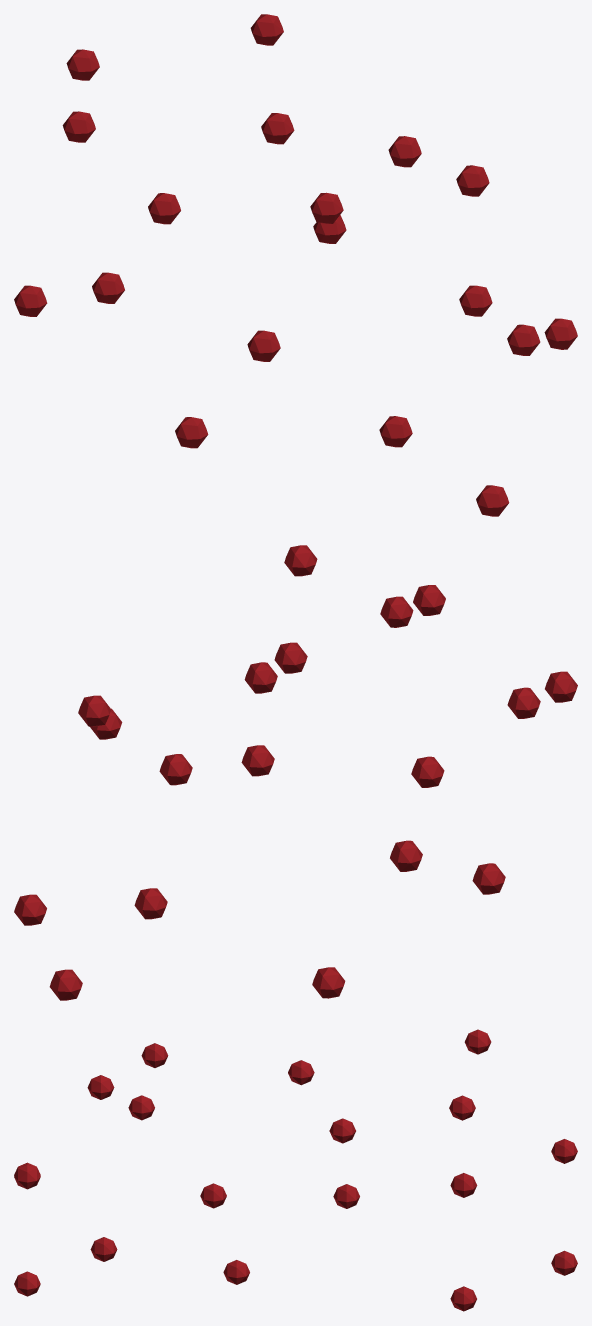
File: Hedge-4x2x2-Straight_Berries.FBX
3 renders of one model, top to bottom at view 1: azimuth 30°, elevation 25°; view 2: azimuth 150°, elevation 25°; view 3: azimuth 270°, elevation 25°, orthographic. The views are drawn at different scales.
Parts seen in each view (by area): view 1: Hedge-4x2x2-Straight_Berries; view 2: Hedge-4x2x2-Straight_Berries; view 3: Hedge-4x2x2-Straight_Berries.
Boxes of the visible parts, x1,y1,x2,y2 form: Hedge-4x2x2-Straight_Berries: (14, 14, 577, 516); Hedge-4x2x2-Straight_Berries: (14, 545, 577, 1000); Hedge-4x2x2-Straight_Berries: (14, 1029, 577, 1311).
Bounding box in the file's own units: 22 × 18.16 × 42.
